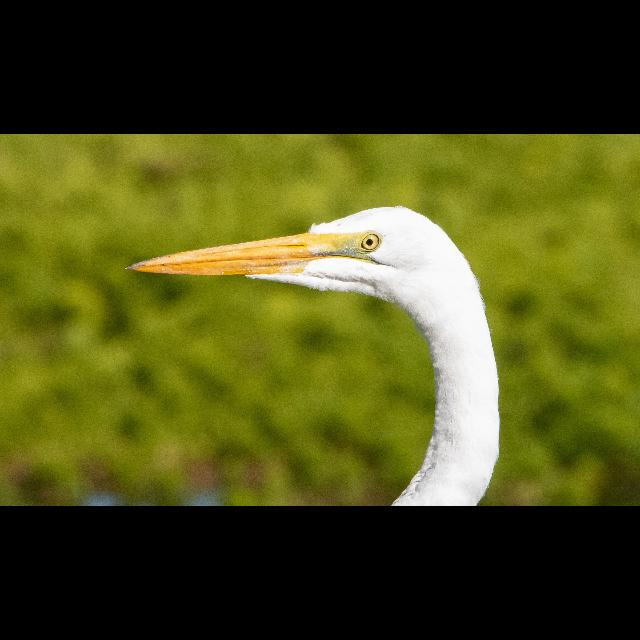egret: (115, 202, 505, 506)
